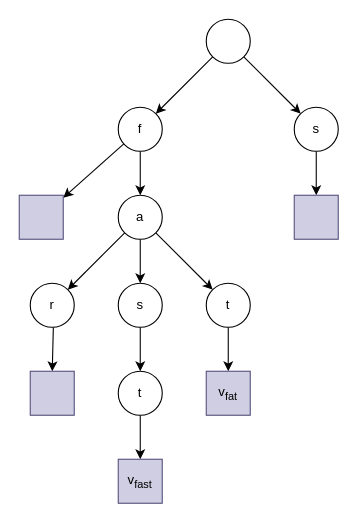
Some shapes in this 358 by 523 pixel diagram are drawn without their labels. Here are the shapes that lost their labels. From the top down, the box of each, then its label:
(18, 194, 63, 239): v f
(293, 194, 338, 239): v s
(29, 370, 74, 415): v far
